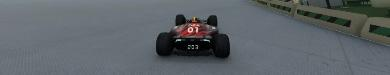Car: (155, 13, 230, 57)
obstacles-Borders: (246, 0, 389, 51)
